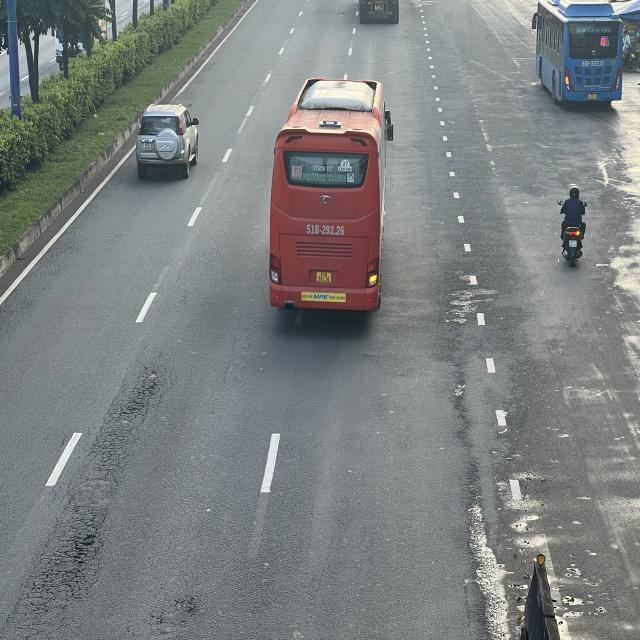car: (138, 105, 202, 178)
coach: (270, 76, 392, 314), (532, 0, 623, 104)
